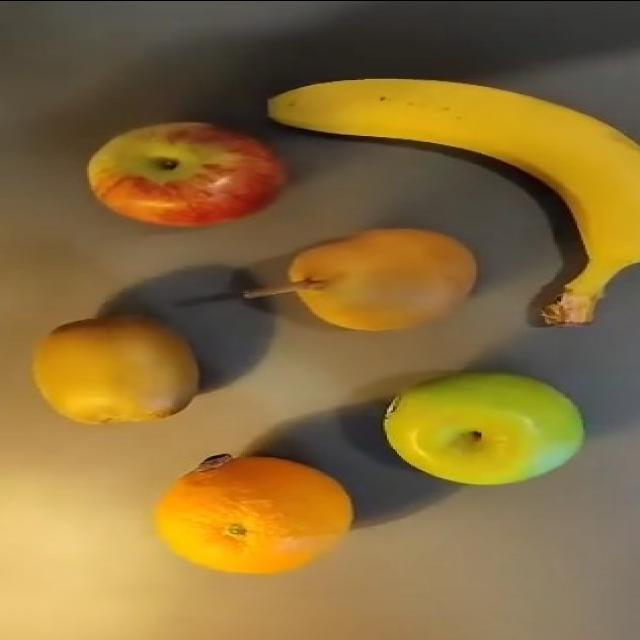Apple: (382, 370, 585, 486), (86, 120, 287, 228)
Banana: (266, 76, 639, 327)
Orange: (153, 452, 355, 575)
